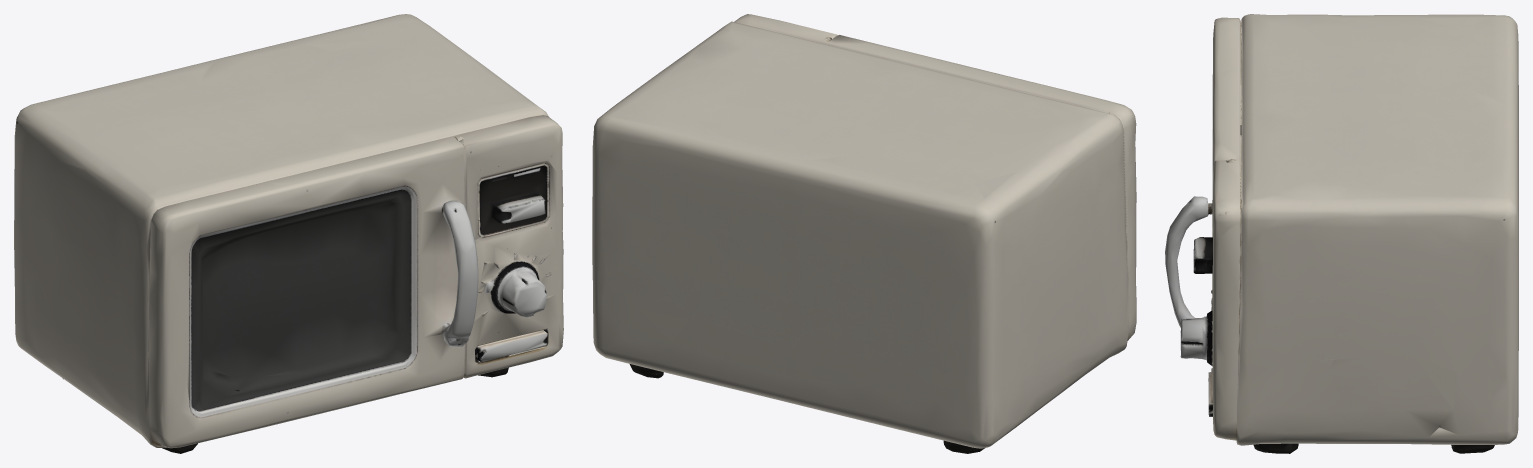
Rendered from microwave.glb.
3 views of the same model, side by side, from view 1: azimuth 30°, elevation 25°; view 2: azimuth 150°, elevation 25°; view 3: azimuth 270°, elevation 25° (orthographic).
Visible parts, largest first — view 1: microwave; view 2: microwave; view 3: microwave.
Boxes of the visible parts, left/top/right/bottom form: microwave: left=14, top=14, right=563, bottom=453; microwave: left=592, top=14, right=1136, bottom=453; microwave: left=1165, top=14, right=1518, bottom=453.
Size of the model in its own units: 0.4999 by 0.3078 by 0.372.
Materials: 1 (1 with a texture image).
